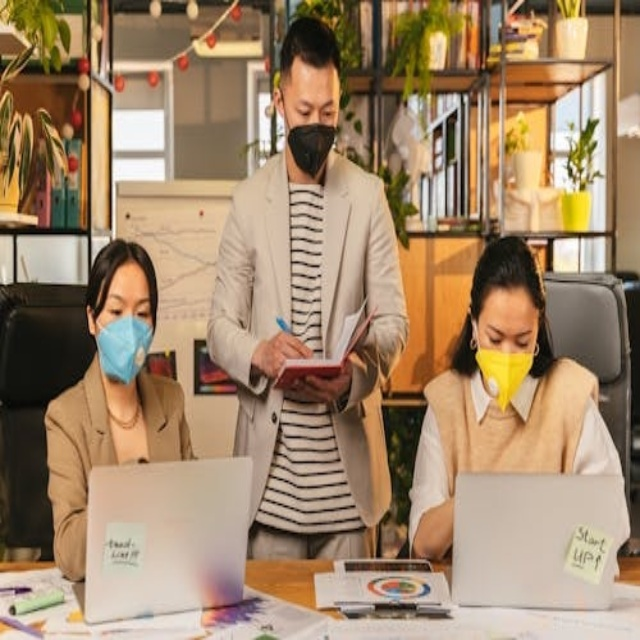Mascara: (474, 337, 535, 411), (94, 312, 154, 384), (286, 122, 337, 177)
Sin_gafas: (93, 284, 152, 327), (479, 317, 535, 356), (287, 86, 340, 127)
Sin_guantes: (251, 311, 311, 392), (283, 365, 350, 410)
